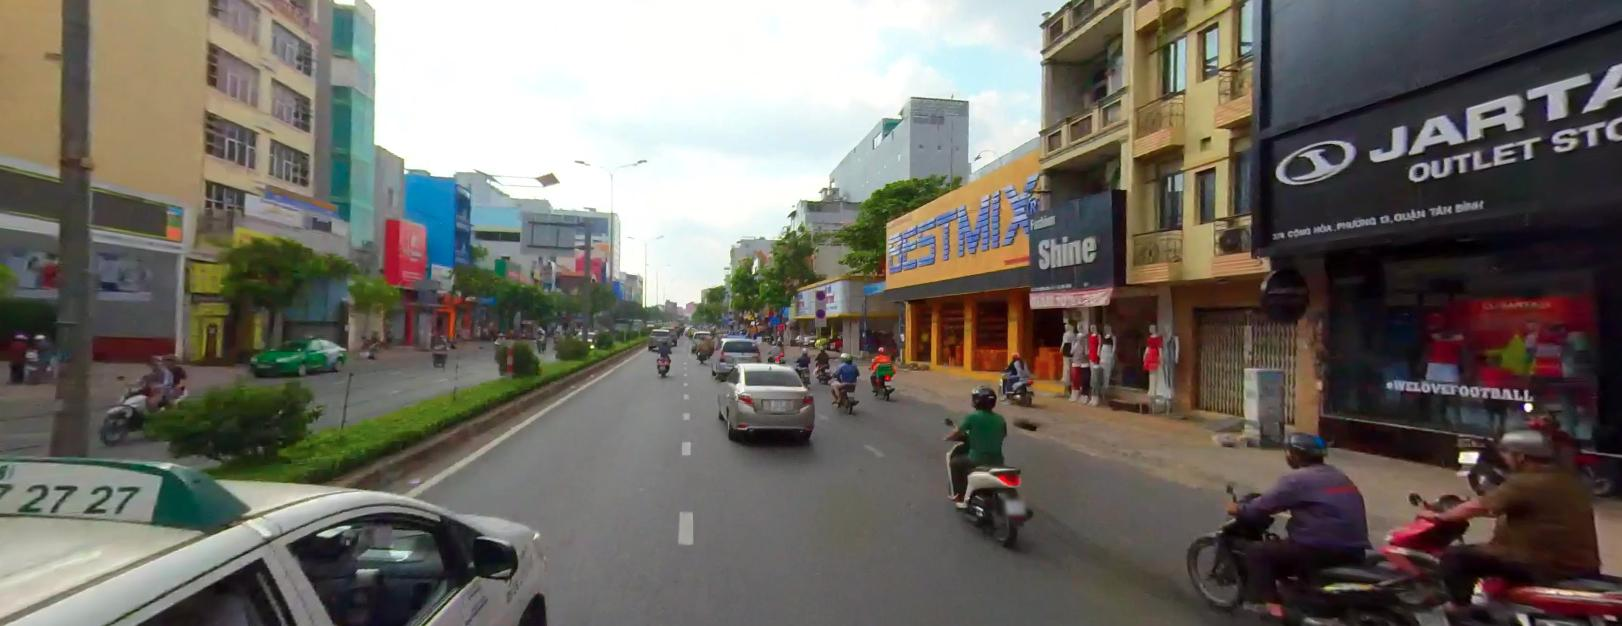Cam dung va do: (815, 288, 825, 298), (815, 307, 824, 316)
